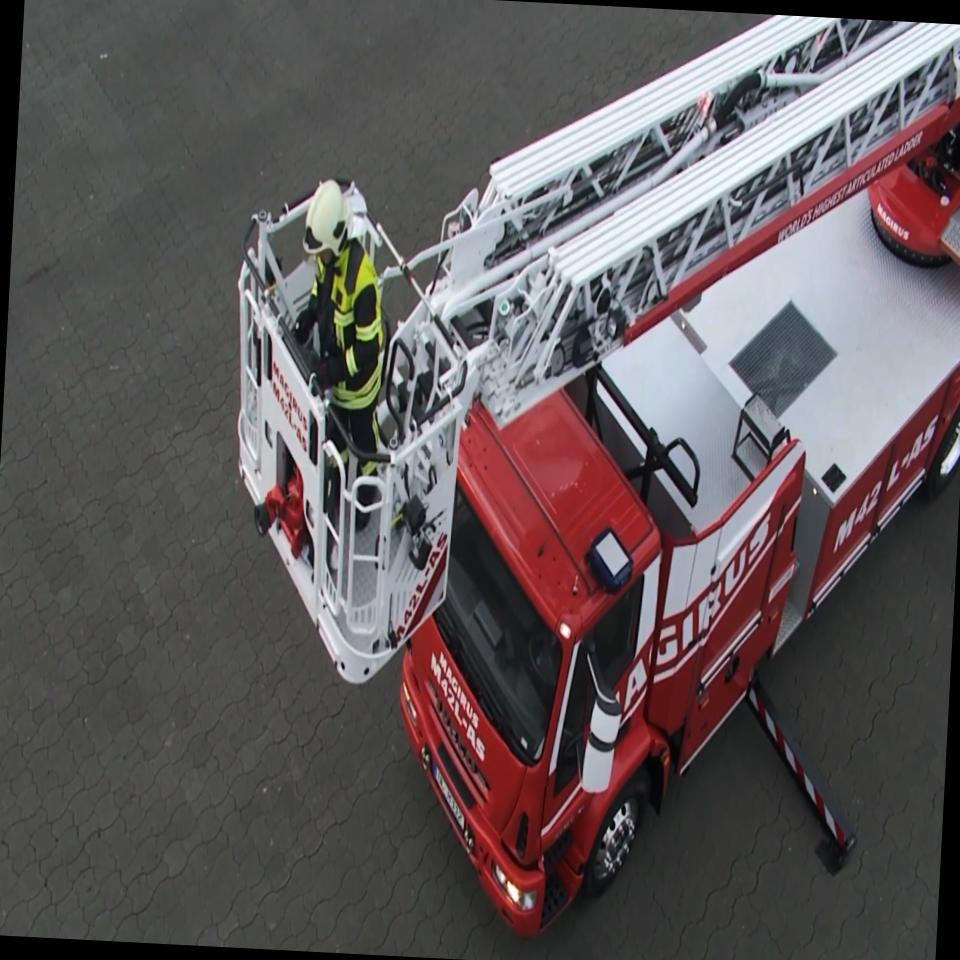viatura: (388, 0, 960, 955)
